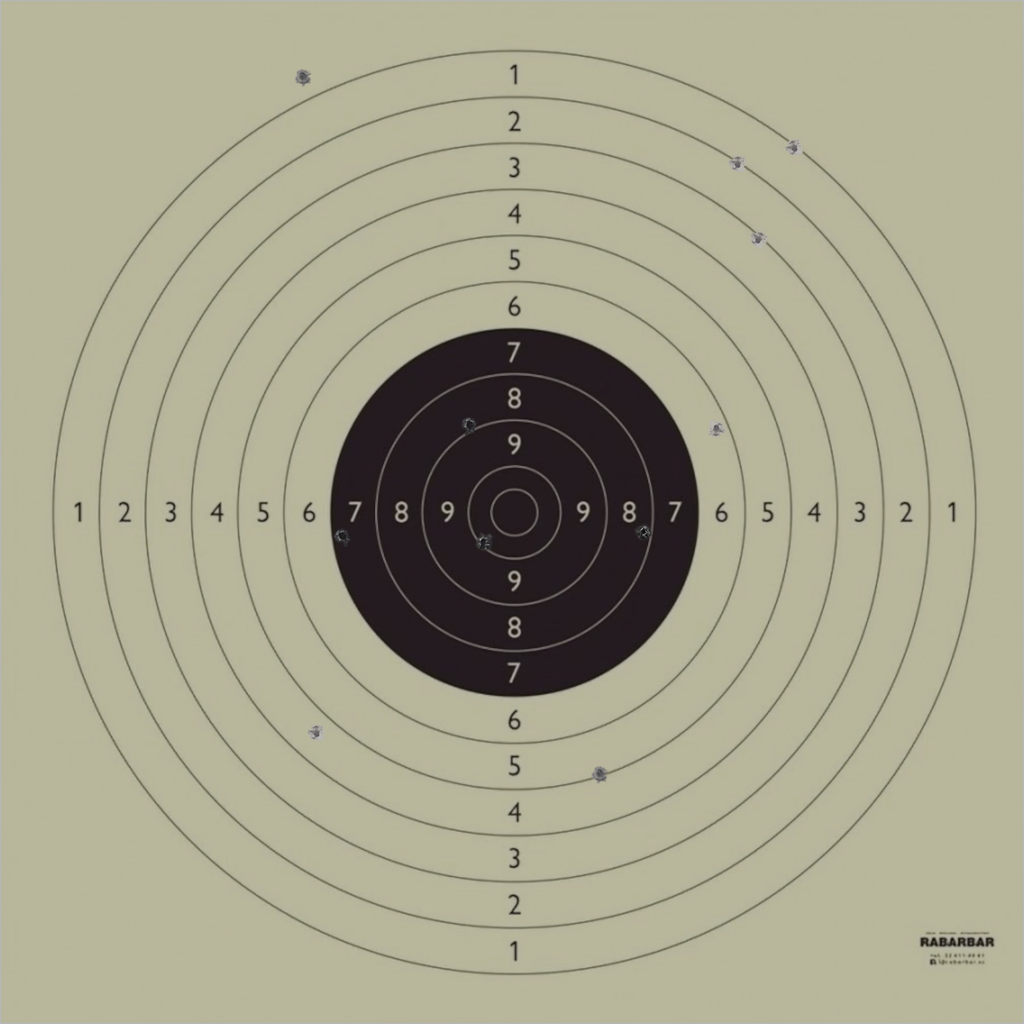0 punktow: (294, 67, 312, 86)
1 punkt: (785, 139, 803, 157)
10 punktow: (474, 532, 493, 551)
2 punkty: (728, 155, 747, 173)
3 punkty: (749, 230, 767, 249)
4 punkty: (307, 724, 326, 743)
5 punktow: (591, 765, 609, 783)
6 punktow: (707, 419, 726, 438)
7 punktow: (333, 527, 352, 546)
8 punktow: (634, 522, 653, 541)
9 punktow: (460, 416, 479, 434)
